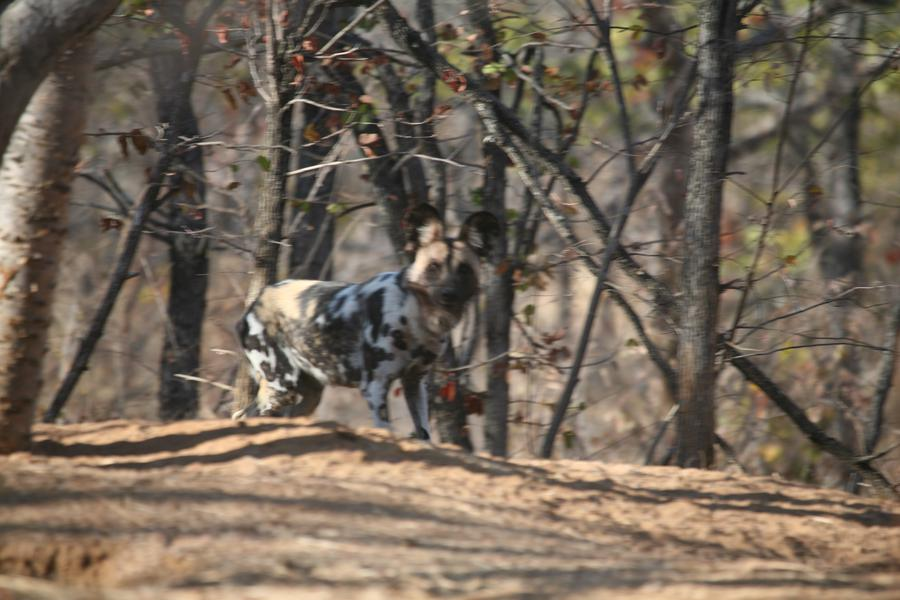wilddog: (247, 223, 492, 397)
